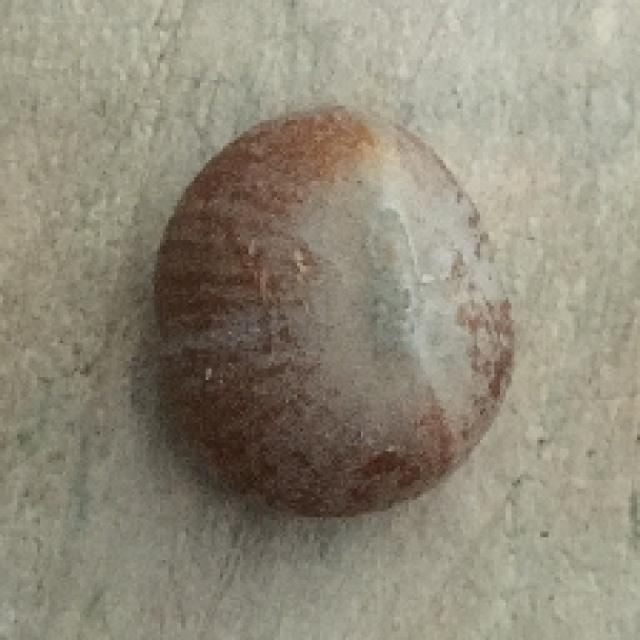QualityHazelnut: (152, 106, 517, 524)
